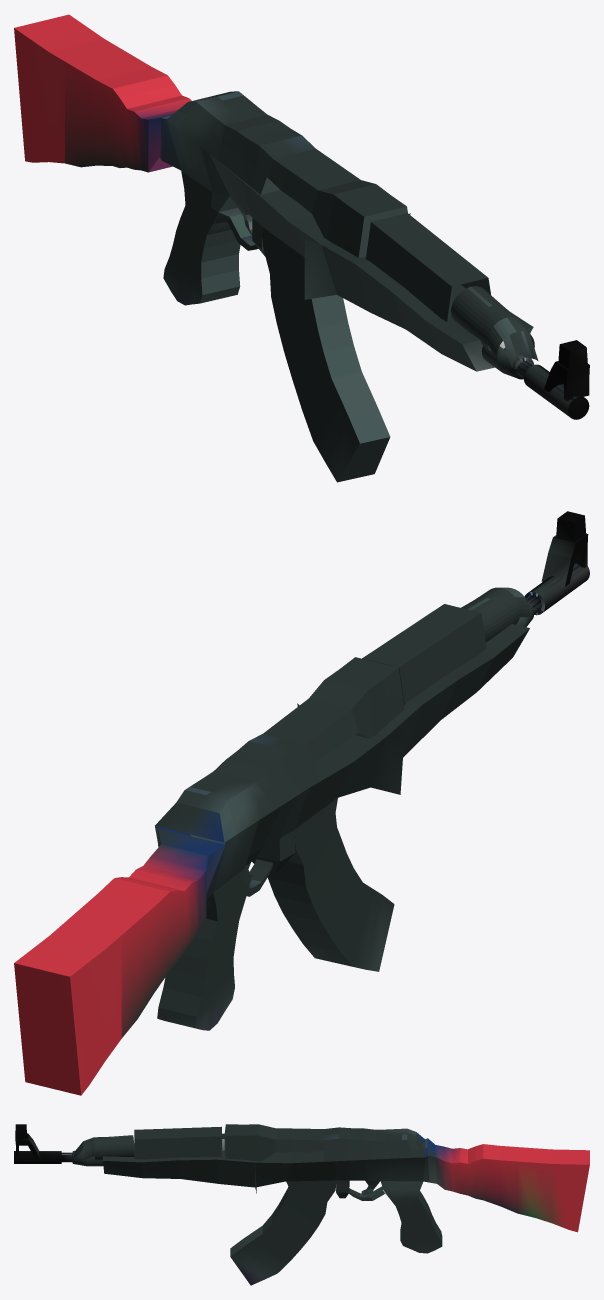
The model's file is ak47_Colored.fbx.
3 renders of one model, top to bottom at view 1: azimuth 30°, elevation 25°; view 2: azimuth 150°, elevation 25°; view 3: azimuth 270°, elevation 25°, orthographic. The views are drawn at different scales.
Visible parts, largest first — view 1: Cube; view 2: Cube; view 3: Cube.
Boxes of the visible parts, x1,y1,x2,y2 form: Cube: (14,14,589,482); Cube: (14,511,589,1095); Cube: (14,1124,589,1285).
Bounding box in the file's own units: 110 × 285 × 957.
